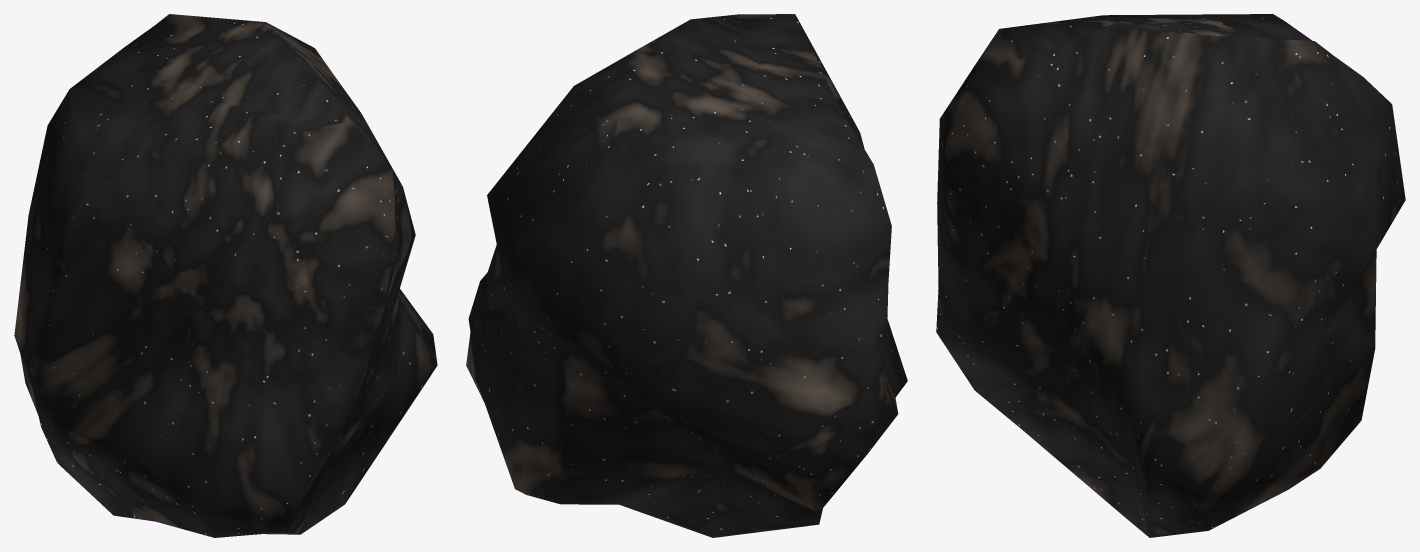
Rendered from graphite_rock.glb.
The picture shows the model from 3 angles, left to right: view 1: azimuth 30°, elevation 25°; view 2: azimuth 150°, elevation 25°; view 3: azimuth 270°, elevation 25°; orthographic projection.
Parts seen in each view (by area): view 1: GraphiteRock_0; view 2: GraphiteRock_0; view 3: GraphiteRock_0.
Boxes of the visible parts, x1,y1,x2,y2 form: GraphiteRock_0: (14,14,437,537); GraphiteRock_0: (466,14,907,537); GraphiteRock_0: (936,14,1405,537).
Size of the model in its own units: 0.2045 by 0.2339 by 0.2039.
Materials: 1 (1 with a texture image).
